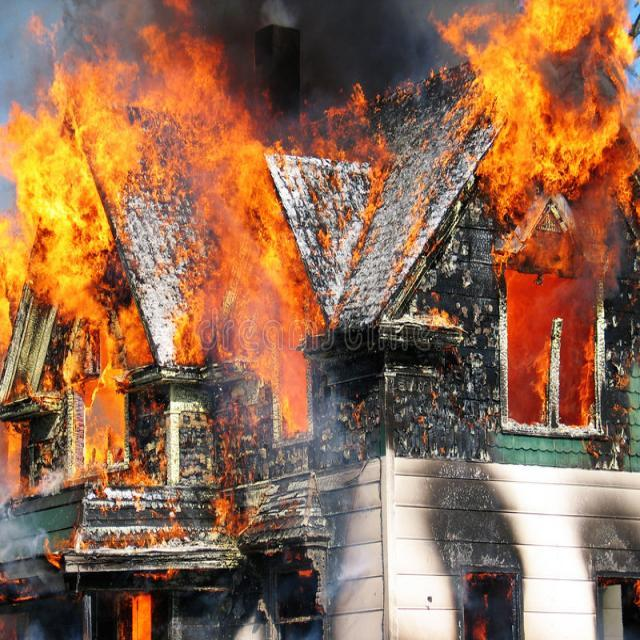Fire: (3, 2, 326, 370), (445, 0, 640, 223), (500, 224, 605, 436), (66, 372, 170, 490), (330, 166, 388, 314), (208, 392, 252, 538), (328, 82, 391, 165), (74, 522, 193, 556), (426, 292, 462, 331)
